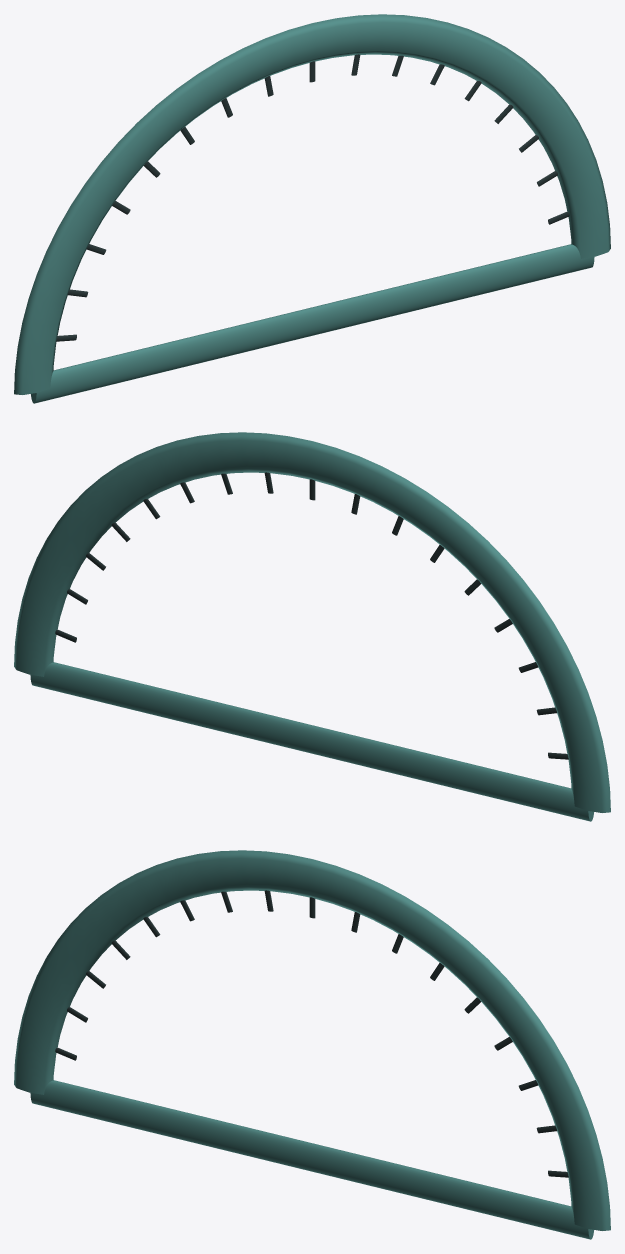
The model's file is wp-rapporteur.glb.
3 views of the same model, one above another, from view 1: azimuth 30°, elevation 25°; view 2: azimuth 150°, elevation 25°; view 3: azimuth 330°, elevation 25° (orthographic).
Visible parts, largest first — view 1: wp-rapporteur; view 2: wp-rapporteur; view 3: wp-rapporteur.
Boxes of the visible parts, x1,y1,x2,y2 form: wp-rapporteur: (14, 14, 610, 403); wp-rapporteur: (14, 432, 610, 821); wp-rapporteur: (14, 850, 610, 1239).
Size of the model in its own units: 0.2 by 0.1 by 0.005.
